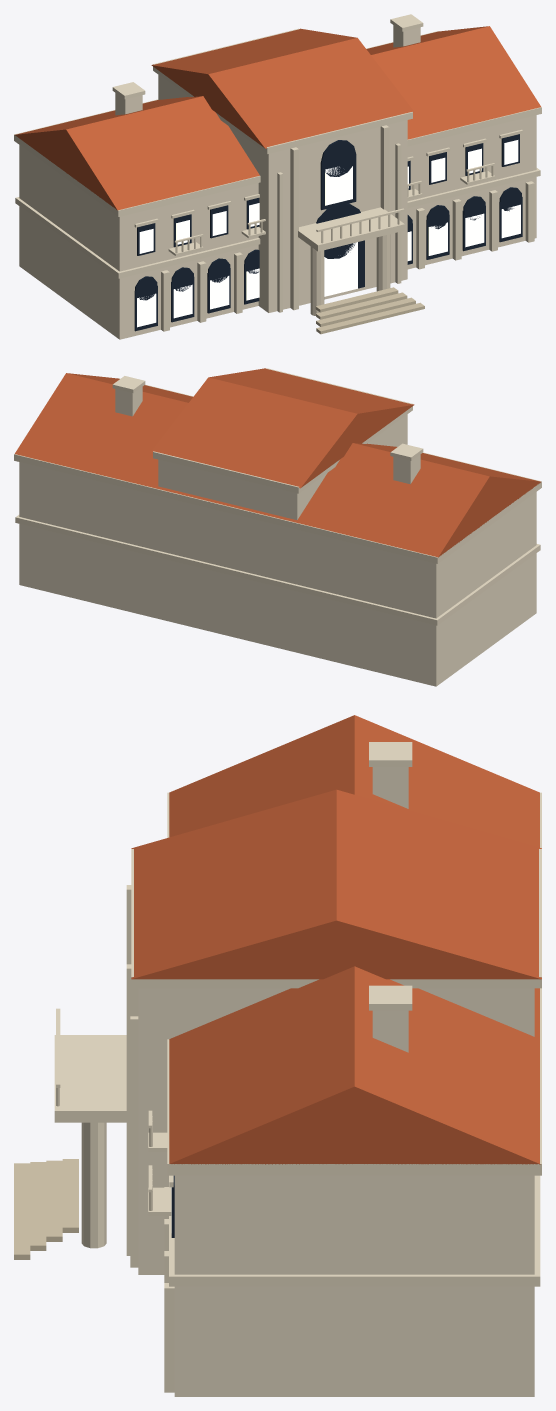
File: mansion.glb
The picture shows the model from 3 angles, top to bottom: view 1: azimuth 30°, elevation 25°; view 2: azimuth 150°, elevation 25°; view 3: azimuth 270°, elevation 25°; orthographic projection. The views are drawn at different scales.
Visible parts, largest first — view 1: mansion; view 2: mansion; view 3: mansion.
Boxes of the visible parts, left/top/right/bottom form: mansion: left=14, top=14, right=541, bottom=339; mansion: left=14, top=368, right=541, bottom=686; mansion: left=14, top=715, right=541, bottom=1396.
Size of the model in its own units: 24.4 by 11 by 14.65.
